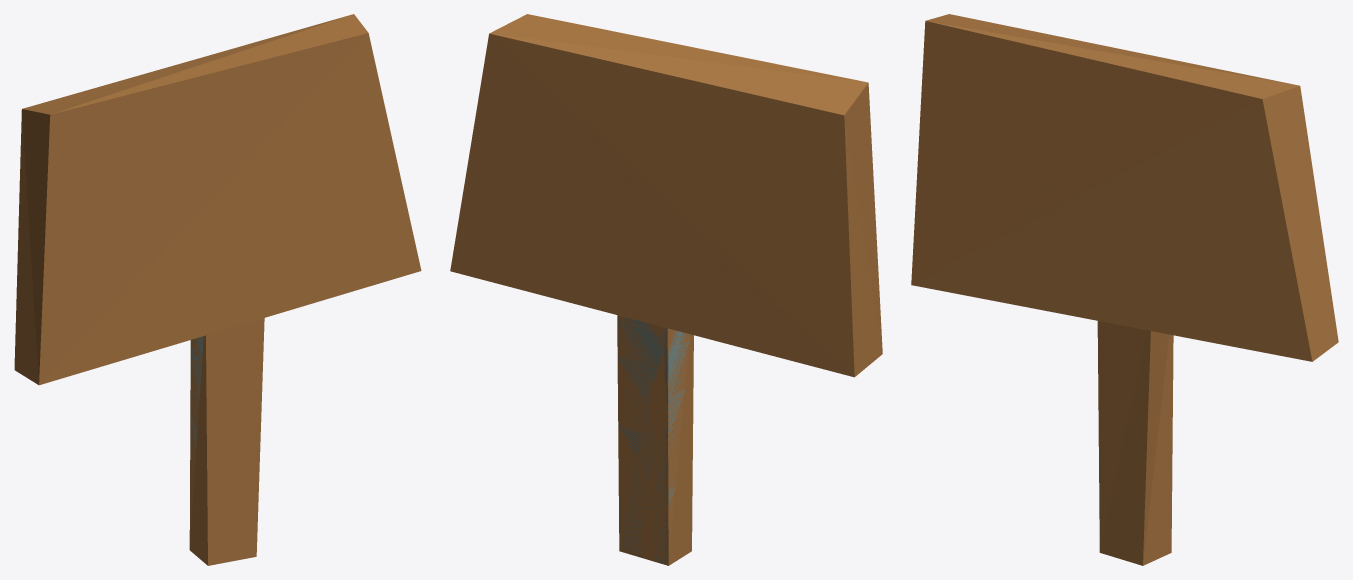
File: plainsign.fbx
3 views of the same model, side by side, from view 1: azimuth 30°, elevation 25°; view 2: azimuth 150°, elevation 25°; view 3: azimuth 330°, elevation 25° (orthographic).
Parts seen in each view (by area): view 1: Col; view 2: Col, Sign; view 3: Col.
Boxes of the visible parts, left/top/right/bottom form: Col: left=14, top=14, right=421, bottom=565; Col: left=450, top=14, right=882, bottom=565; Sign: left=618, top=318, right=689, bottom=565; Col: left=911, top=14, right=1338, bottom=565.
Bounding box in the file's own units: 1.31 × 1.59 × 0.2157.
3 materials, 3 textured.
